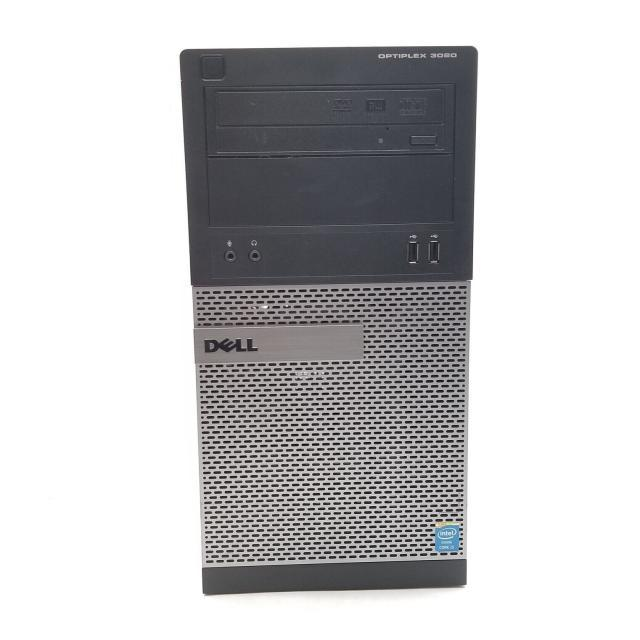Desktop-PC: (169, 24, 507, 610)
